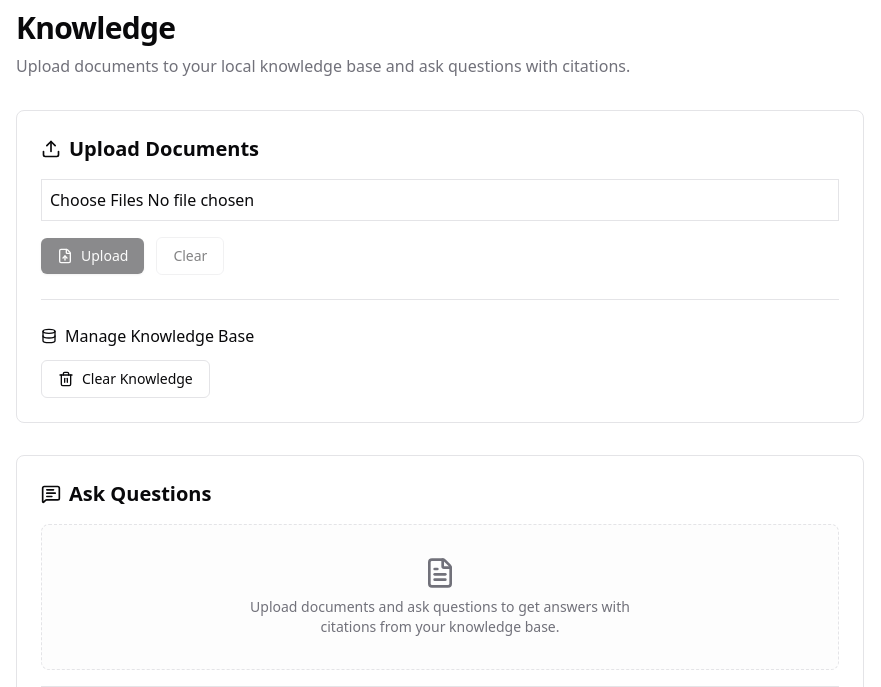
Test case: KnowledgePage › clears knowledge after confirmation
What coordinates should you click on to do the following:
click the button "Clear Knowledge"
I would click on:
 (125, 379)
Its box is [41,360,210,398].
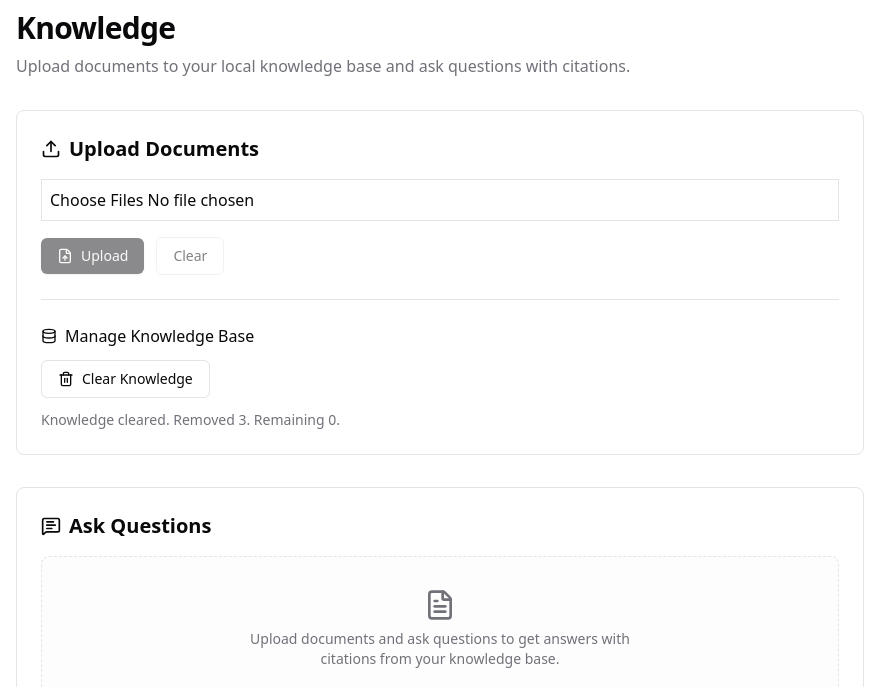
expect the text "Knowledge cleared. Removed 3. Remaining 0." is shown: met, box [41,410,340,429]
